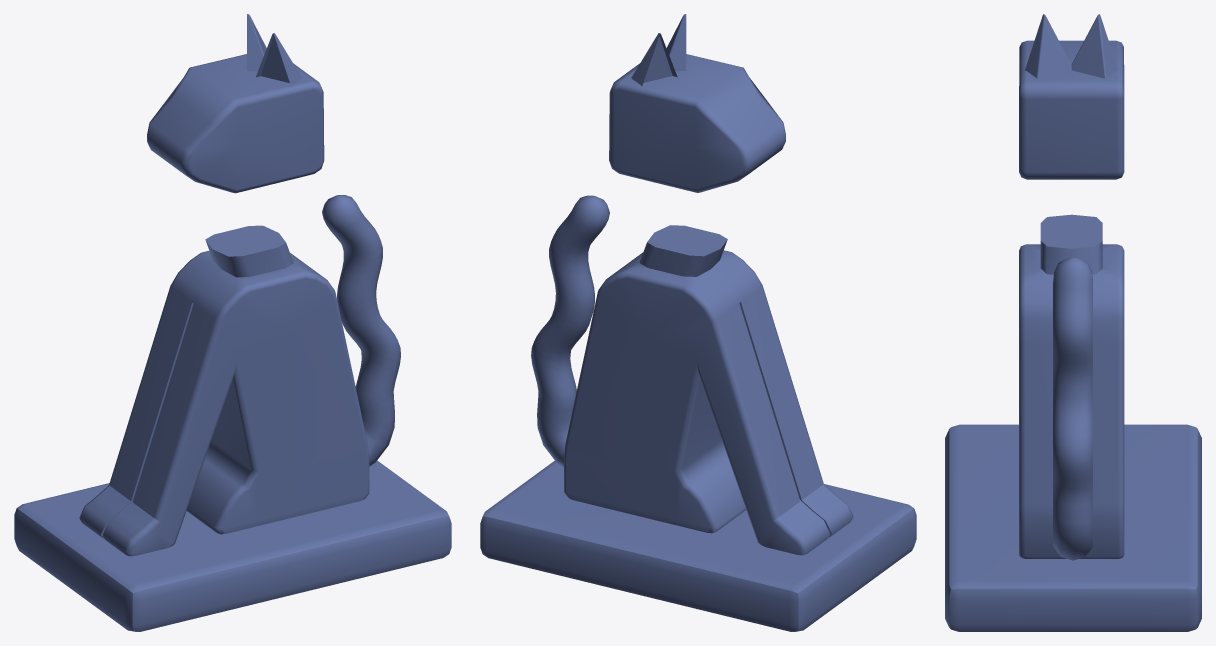
Rendered from Gato.fbx.
3 views of the same model, side by side, from view 1: azimuth 30°, elevation 25°; view 2: azimuth 150°, elevation 25°; view 3: azimuth 270°, elevation 25° (orthographic). The views are drawn at different scales.
Parts seen in each view (by area): view 1: polySurface39, polySurface38; view 2: polySurface39, polySurface38; view 3: polySurface39, polySurface38.
Part boxes in pixels (x1,y1,x2,y2): polySurface39: [14, 195, 451, 631]; polySurface38: [147, 14, 324, 193]; polySurface39: [480, 195, 916, 631]; polySurface38: [609, 14, 785, 192]; polySurface39: [945, 214, 1201, 631]; polySurface38: [1019, 14, 1124, 179].
Bounding box in the file's own units: 2.09 × 3.19 × 1.34.
